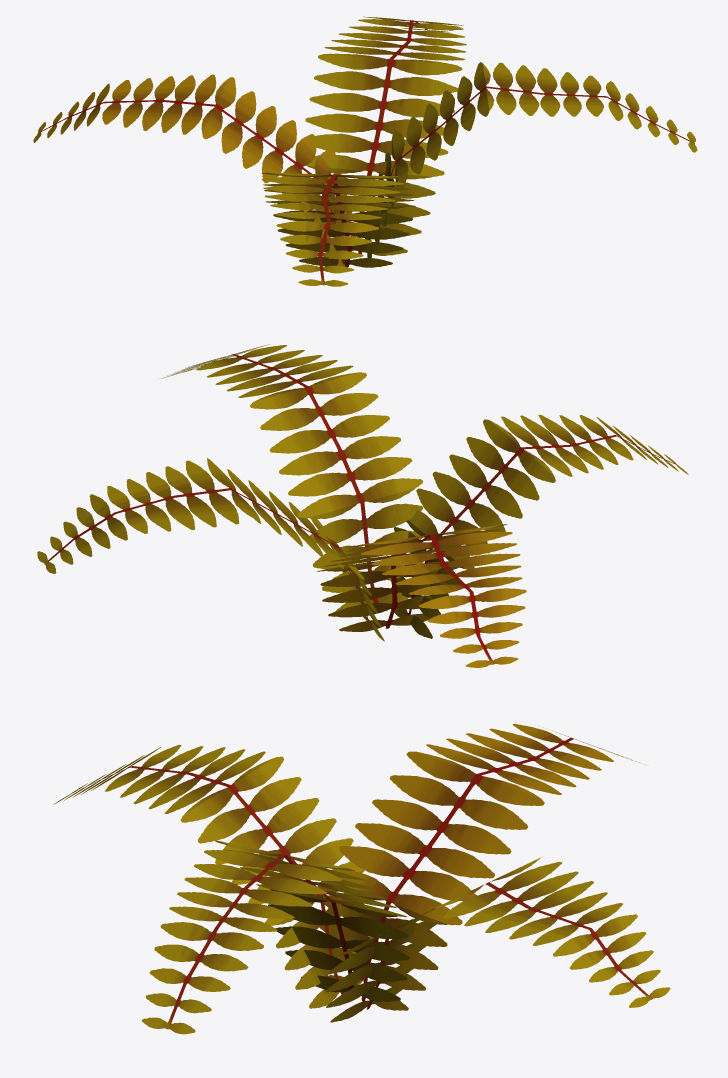
The model's file is FRM0210002.fbx.
3 renders of one model, top to bottom at view 1: azimuth 30°, elevation 25°; view 2: azimuth 150°, elevation 25°; view 3: azimuth 270°, elevation 25°, orthographic. The views are drawn at different scales.
Parts seen in each view (by area): view 1: smFRM0210002; view 2: smFRM0210002; view 3: smFRM0210002.
Part boxes in pixels (x1,y1,x2,y2): smFRM0210002: (33, 16, 697, 286); smFRM0210002: (37, 344, 688, 667); smFRM0210002: (53, 724, 670, 1034).
Bounding box in the file's own units: 121 × 40.6 × 108.
1 material, 1 textured.
